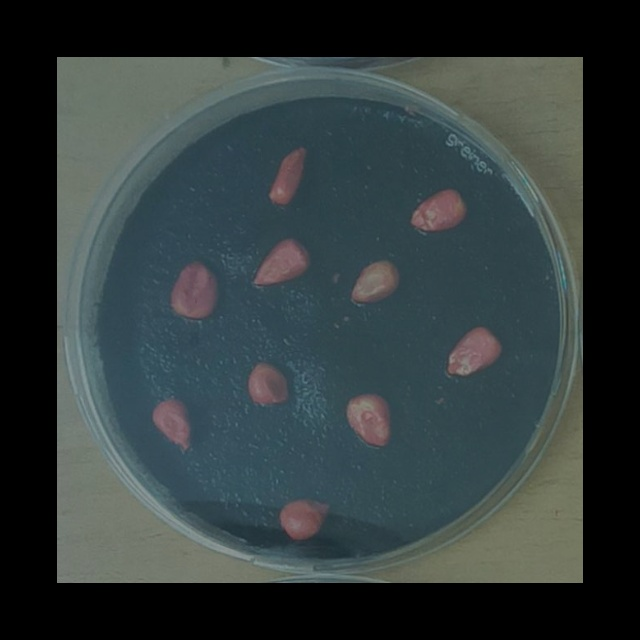Zea mays: (163, 254, 225, 325), (439, 320, 507, 384), (248, 230, 316, 292), (260, 136, 314, 211), (341, 385, 397, 453), (404, 181, 472, 237), (343, 252, 407, 308), (273, 490, 338, 545), (148, 391, 197, 456), (243, 355, 296, 413)
